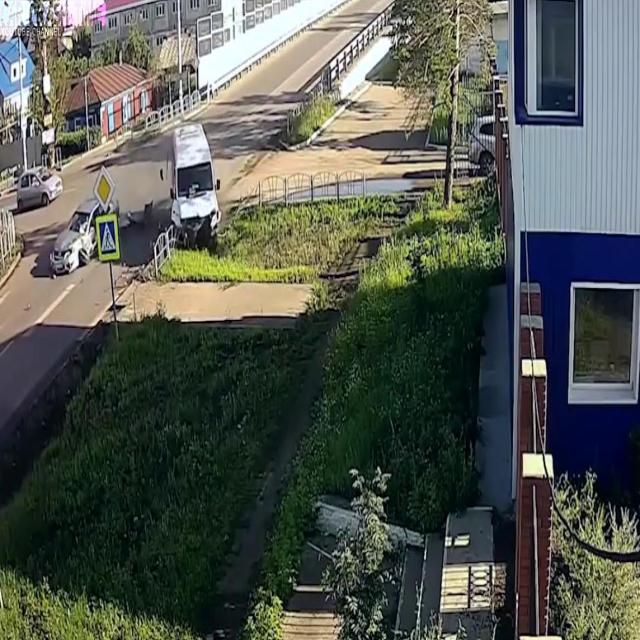accident: (160, 114, 222, 280)
